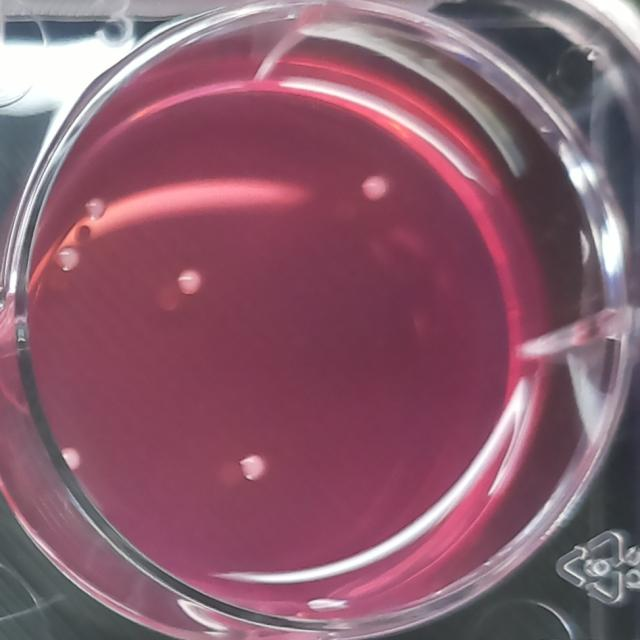Bacillus: (356, 170, 391, 208), (171, 264, 206, 300), (237, 448, 270, 486), (50, 240, 82, 277), (81, 192, 110, 225), (58, 442, 84, 472)
